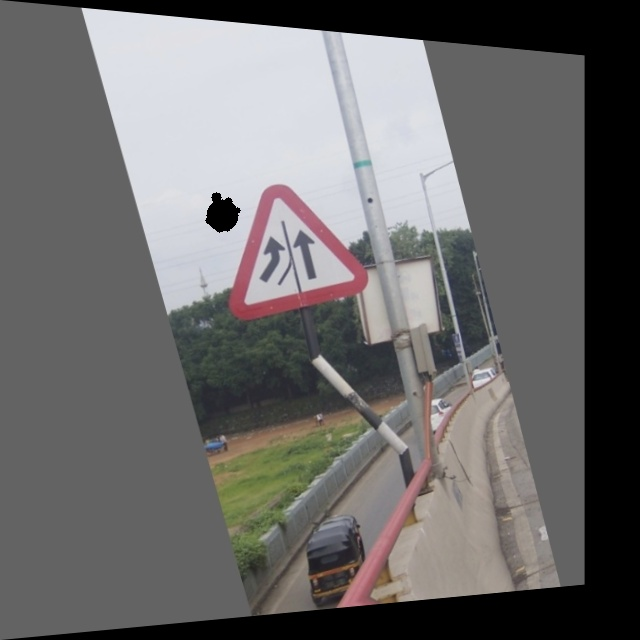Merge_Traffic_Ahead: (198, 156, 377, 334)
